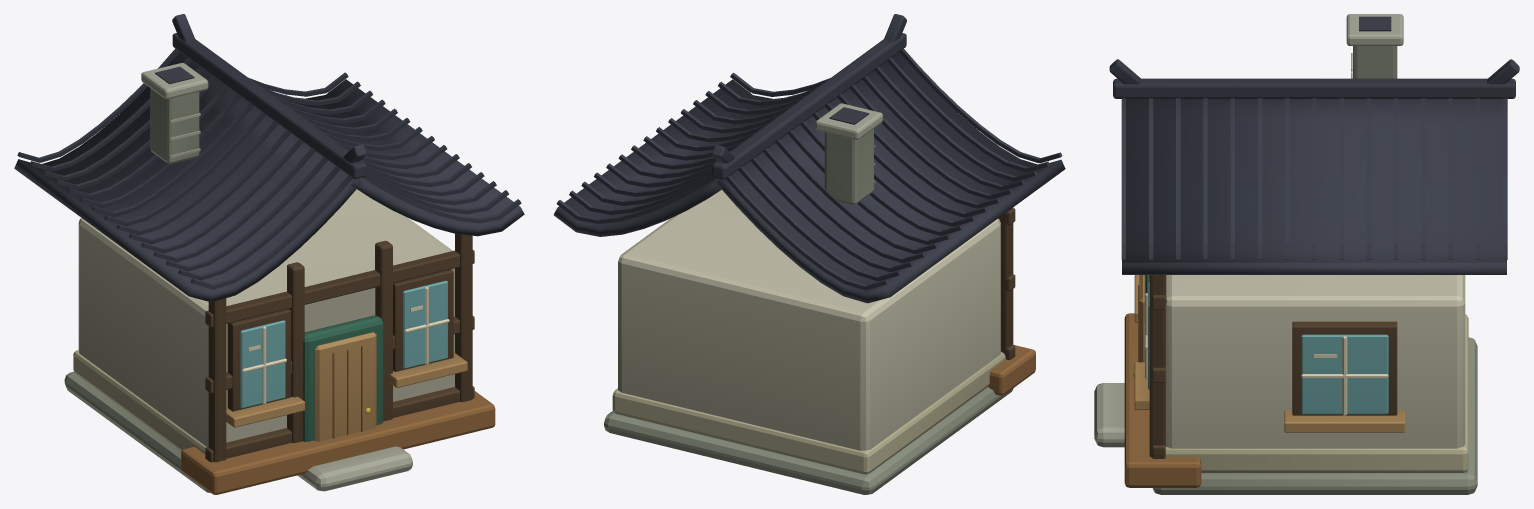
File: house_east_asian.glb
3 views of the same model, side by side, from view 1: azimuth 30°, elevation 25°; view 2: azimuth 150°, elevation 25°; view 3: azimuth 270°, elevation 25° (orthographic). The views are drawn at different scales.
Parts seen in each view (by area): view 1: house_east_asian; view 2: house_east_asian; view 3: house_east_asian.
Part boxes in pixels (left/top/right/bottom): house_east_asian: left=14, top=14, right=524, bottom=494; house_east_asian: left=553, top=14, right=1065, bottom=494; house_east_asian: left=1094, top=14, right=1519, bottom=494.
Size of the model in its own units: 2.4 by 2.27 by 2.39.
